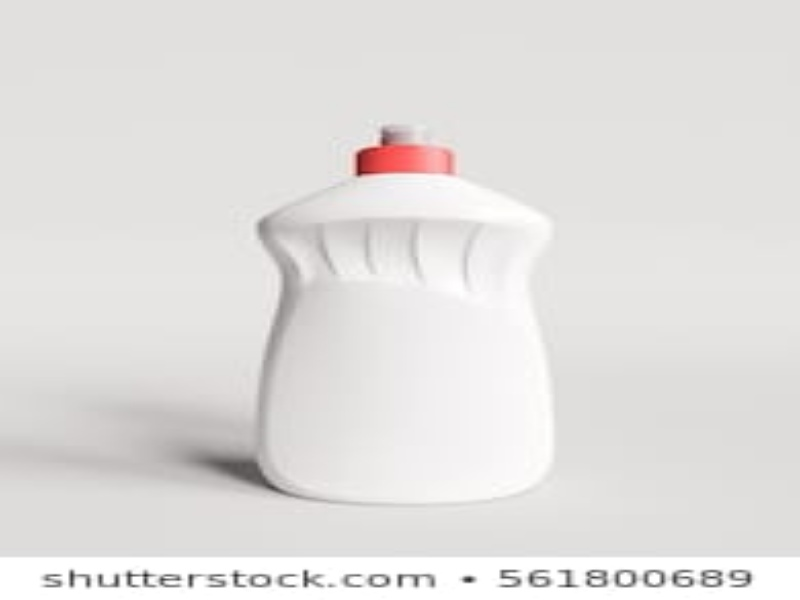detergent-bottle: (252, 122, 577, 508)
